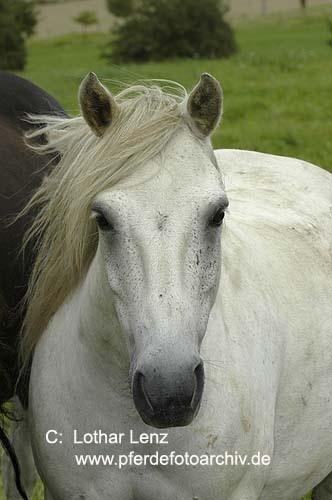horse: (27, 72, 332, 500)
